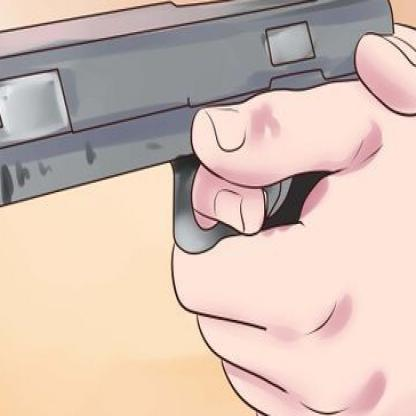gun: (0, 0, 397, 258)
